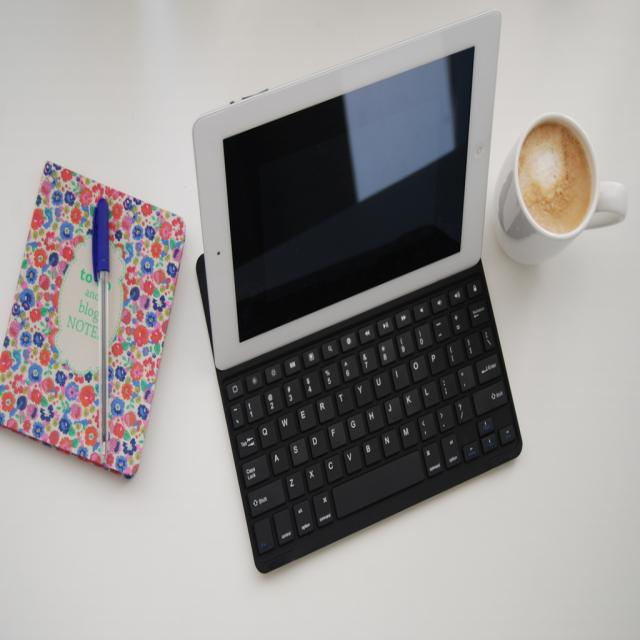Coffee: (519, 120, 595, 234)
